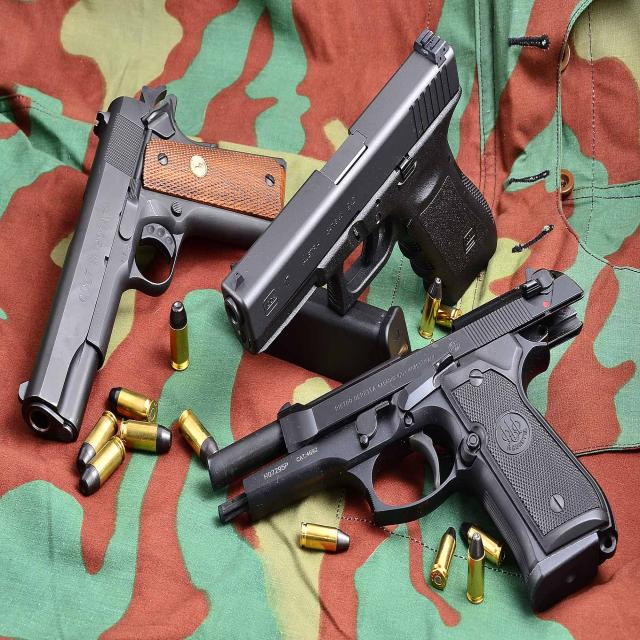Gun: (210, 251, 626, 612), (13, 72, 292, 450), (206, 17, 510, 328)
